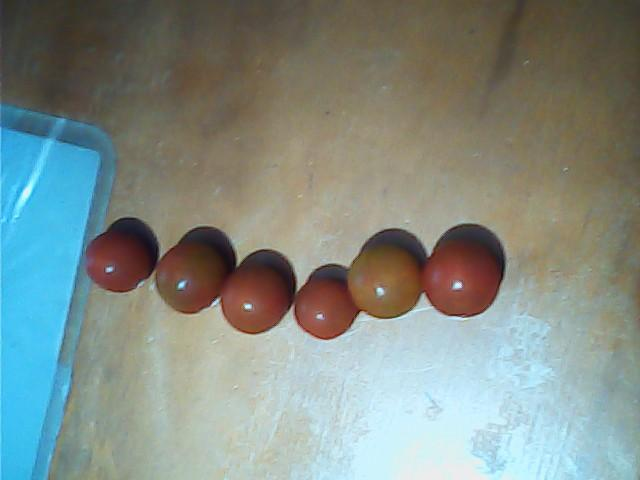maduro: (425, 243, 500, 317), (222, 269, 286, 333), (83, 233, 147, 293), (293, 281, 352, 339)
verde: (347, 248, 422, 319), (156, 247, 218, 313)
